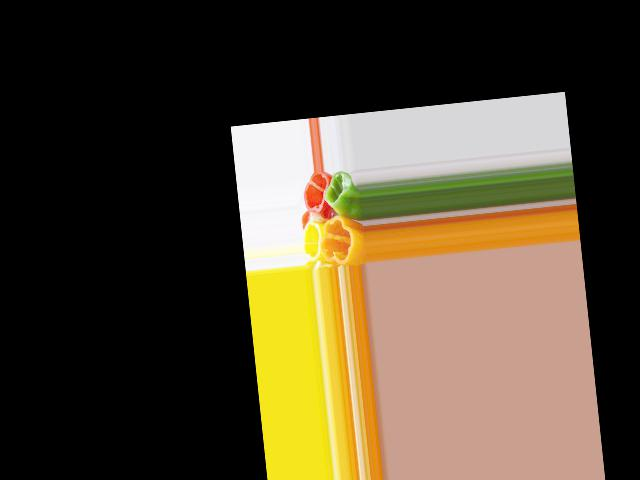bell_pepper: (300, 173, 330, 214)
